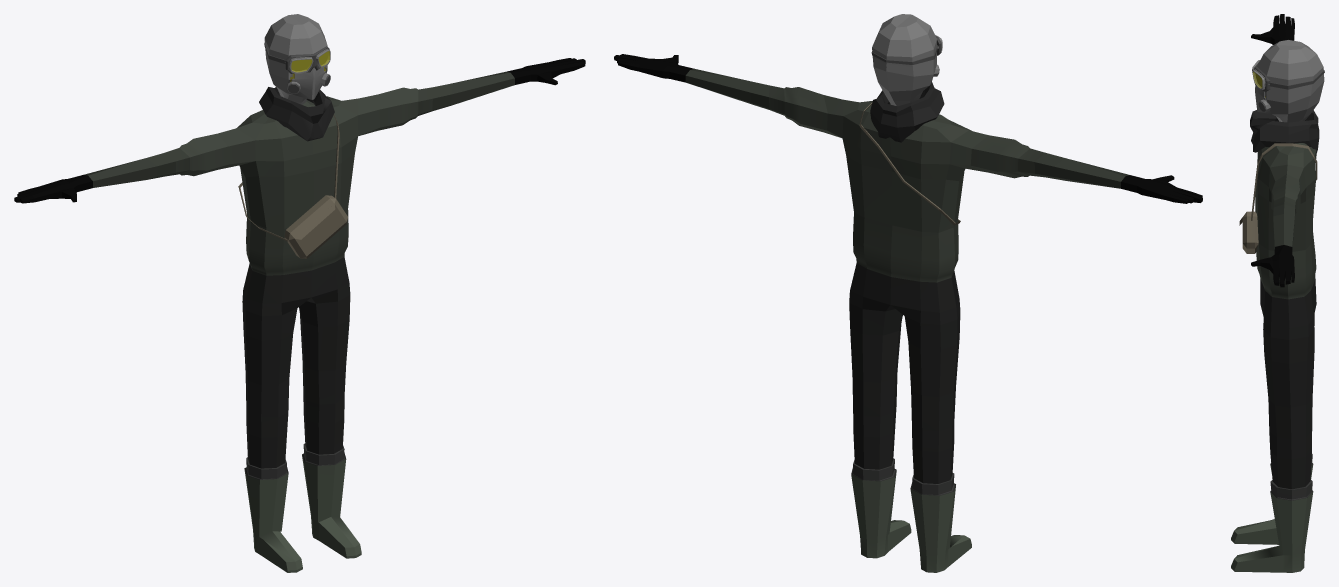
The model's file is KoinModel_VersionTwo.fbx.
3 renders of one model, left to right at view 1: azimuth 30°, elevation 25°; view 2: azimuth 150°, elevation 25°; view 3: azimuth 270°, elevation 25°, orthographic. The views are drawn at different scales.
Parts seen in each view (by area): view 1: polySurface11; view 2: polySurface11; view 3: polySurface11.
Boxes of the visible parts, x1,y1,x2,y2 form: polySurface11: (14, 14, 585, 572); polySurface11: (614, 14, 1202, 572); polySurface11: (1231, 14, 1324, 572).
Size of the model in its own units: 194 by 170 by 28.41.
